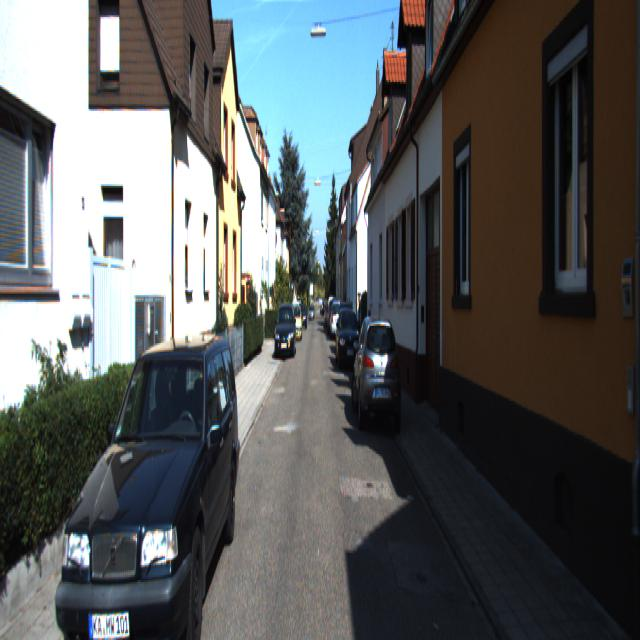Car: (59, 330, 240, 638), (352, 314, 400, 439), (337, 308, 362, 376), (275, 304, 296, 363), (329, 300, 344, 342), (289, 305, 302, 344)
